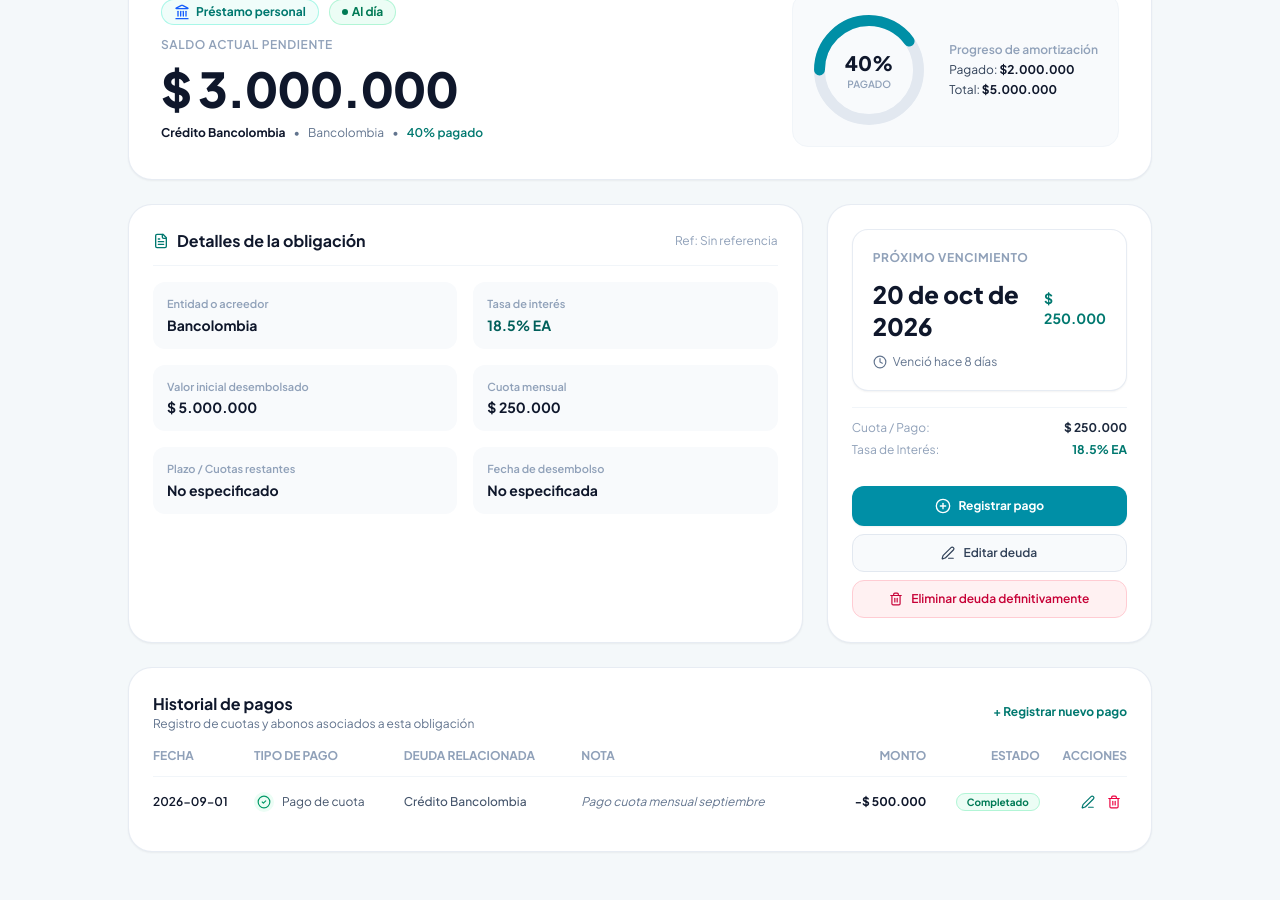
Test: EP-10 — Gestión de pagos y abonos (HU-042, HU-043, HU-044) › HU-044 — Eliminar un pago › CA-01 & TT-044.1: Al presionar eliminar en una fila del historial, muestra diálogo accesible de confirmación
The width and height of the screenshot is (1280, 900).
(page scrolled)
Click the button named "Eliminar pago del 2026-09-01" at (1114, 802), box top-left (1101, 789), bottom-right (1127, 815)
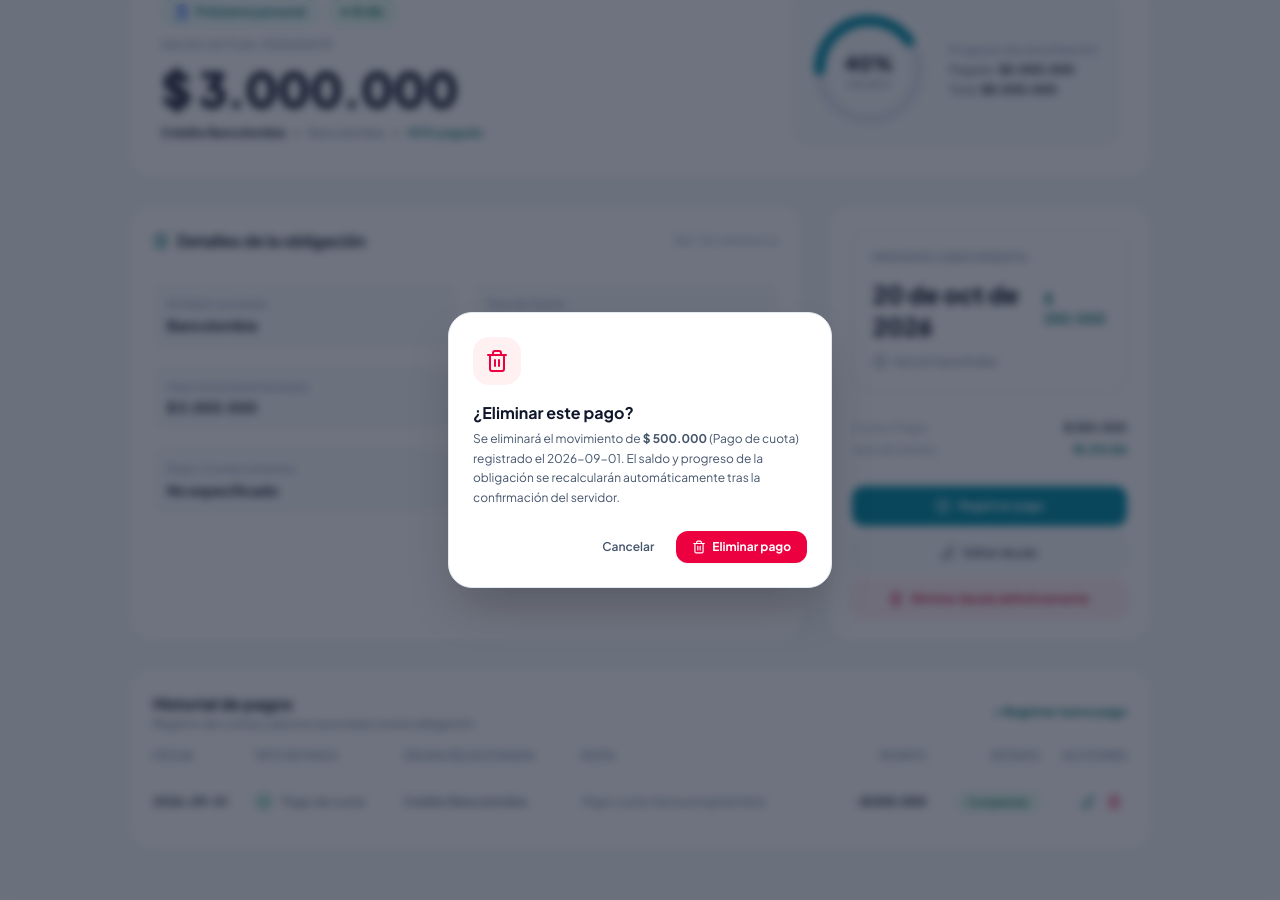
Expected: the dialog is shown
Expected: the heading "¿Eliminar este pago?" is shown, top-left (473, 402), bottom-right (634, 423)
Expected: the text "Se eliminará el movimiento de" is shown, top-left (473, 431), bottom-right (643, 446)
